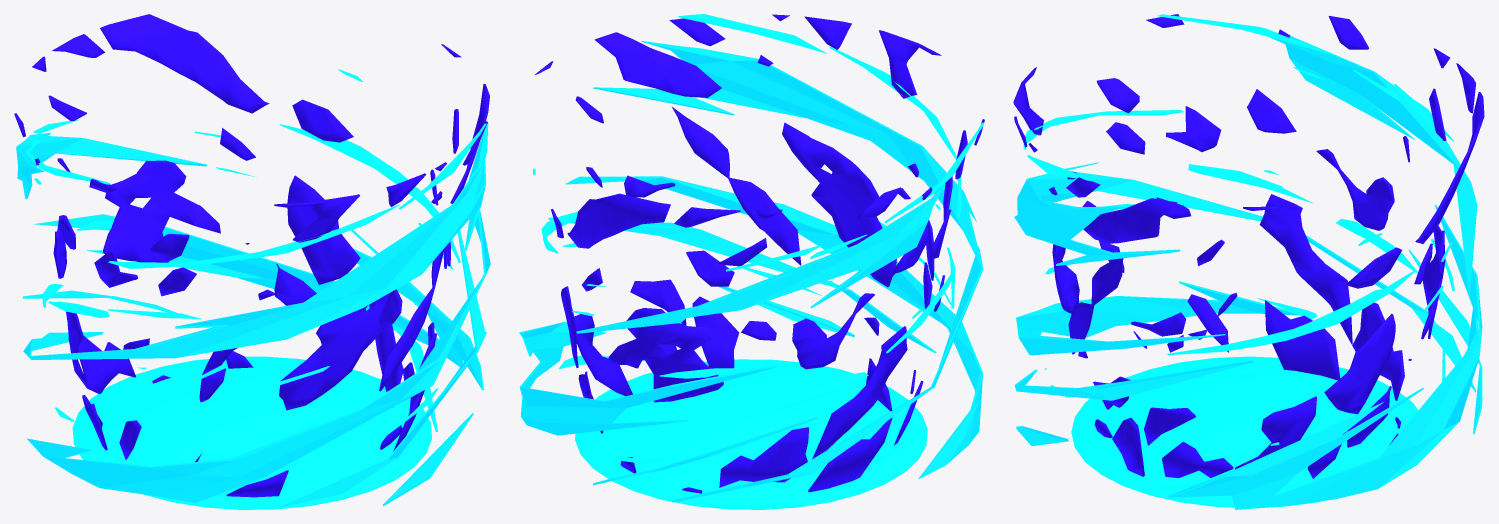
The model's file is BuffVFX2.fbx.
3 renders of one model, left to right at view 1: azimuth 30°, elevation 25°; view 2: azimuth 150°, elevation 25°; view 3: azimuth 270°, elevation 25°, orthographic.
Visible parts, largest first — view 1: Circle.002, Circle.001, Ground, Circle; view 2: Circle.002, Circle.001, Ground, Circle; view 3: Circle.001, Circle.002, Ground, Circle.
Part boxes in pixels (left/top/right/bottom): Circle.002: left=14, top=14, right=489, bottom=497; Circle.001: left=16, top=122, right=490, bottom=507; Ground: left=72, top=356, right=431, bottom=509; Circle: left=25, top=69, right=486, bottom=439; Circle.002: left=535, top=14, right=984, bottom=493; Circle.001: left=519, top=41, right=983, bottom=502; Ground: left=575, top=359, right=927, bottom=509; Circle: left=533, top=14, right=984, bottom=502; Circle.001: left=1014, top=36, right=1482, bottom=509; Circle.002: left=1013, top=14, right=1484, bottom=478; Ground: left=1071, top=356, right=1418, bottom=507; Circle: left=1023, top=14, right=1454, bottom=489.
Size of the model in its own units: 200 by 154 by 201.
